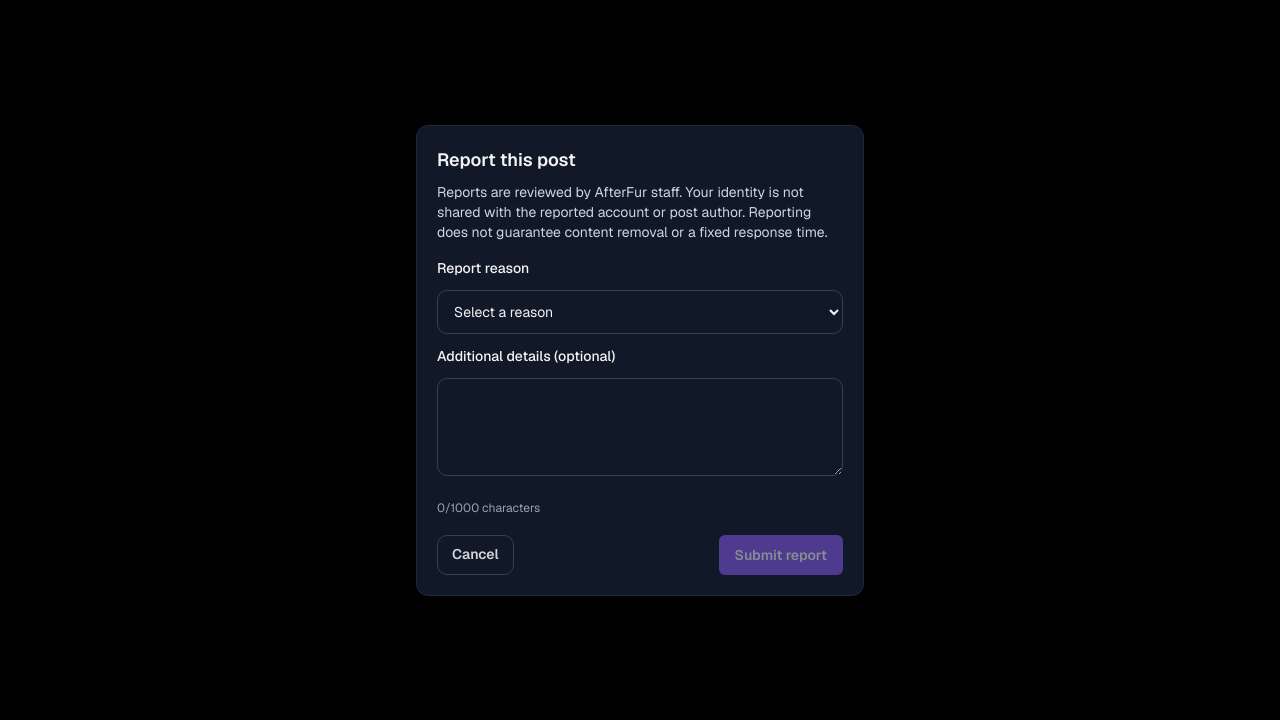
Test: ReportDialog › prevents duplicate submission while a request is in flight
Step 1. Select "Harassment or bullying" in the dropdown labelled "Report reason" → (640, 312), box [437, 290, 843, 334]
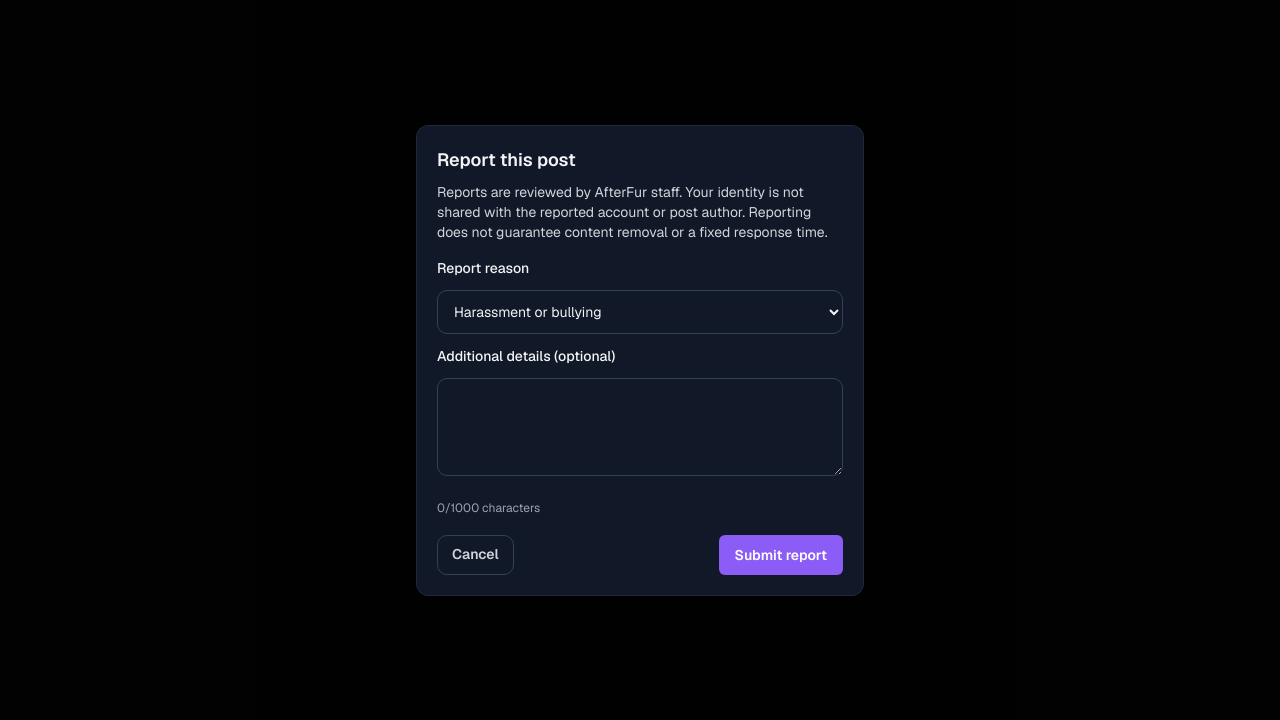
Step 2. Click the button "Submit report" → (781, 554), box [719, 534, 843, 574]
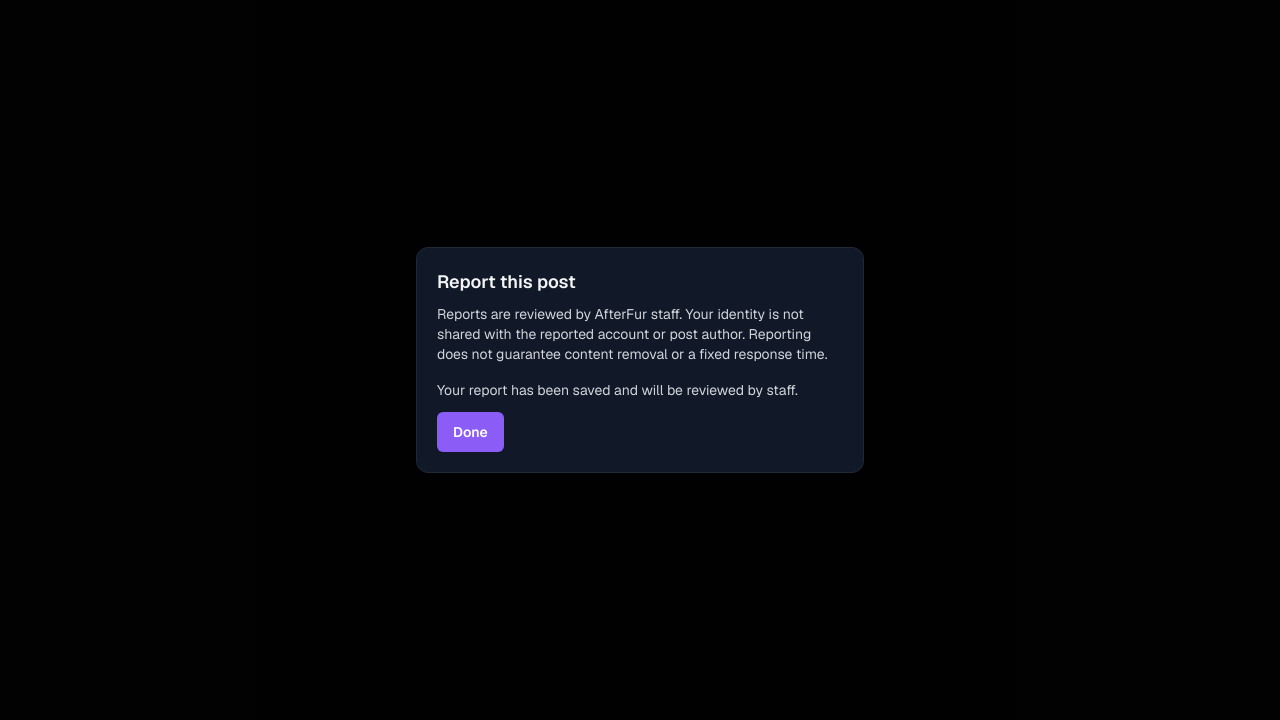
Check: the text "Your report has been saved and will be reviewed by staff." is shown, box [437, 380, 843, 400]
